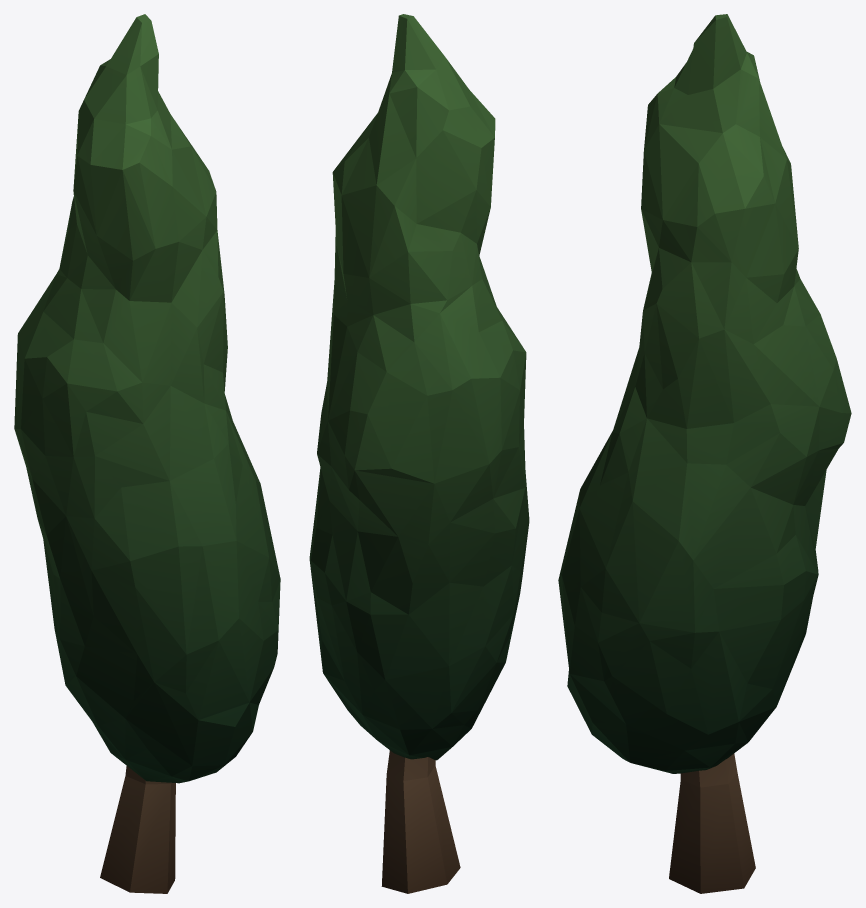
The model's file is cyprys_1.glb.
The picture shows the model from 3 angles, left to right: view 1: azimuth 30°, elevation 25°; view 2: azimuth 150°, elevation 25°; view 3: azimuth 270°, elevation 25°; orthographic projection.
Parts seen in each view (by area): view 1: cyprys_1; view 2: cyprys_1; view 3: cyprys_1.
Boxes of the visible parts, x1,y1,x2,y2 form: cyprys_1: (14,14,280,893); cyprys_1: (309,14,529,893); cyprys_1: (558,14,851,893).
Bounding box in the file's own units: 0.6384 × 2.49 × 0.7626.
